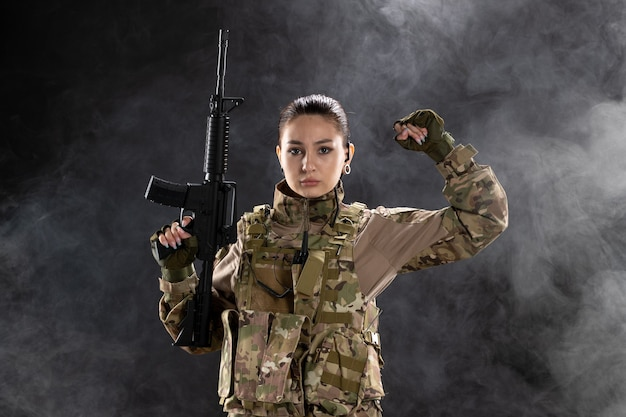gun: (143, 28, 244, 347)
